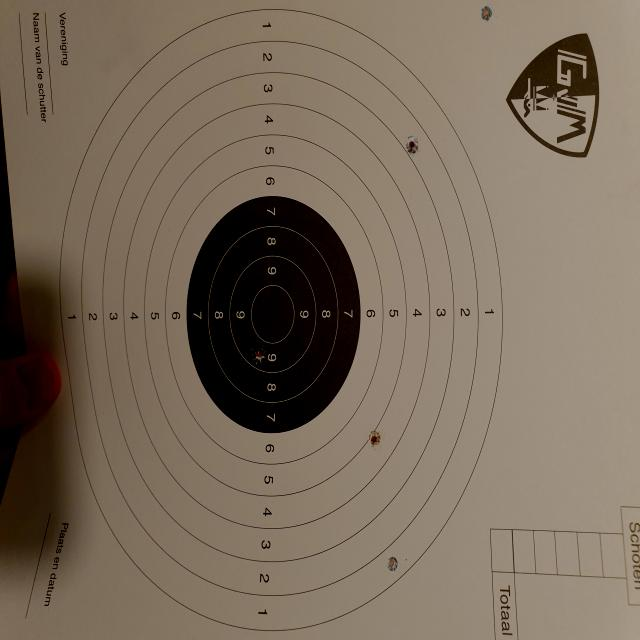0: (480, 4, 494, 23)
1: (387, 554, 399, 572)
2: (406, 135, 419, 157)
5: (368, 429, 382, 446)
9: (252, 342, 266, 364)
Target: (62, 8, 502, 635)
black_contour: (187, 197, 360, 434)
